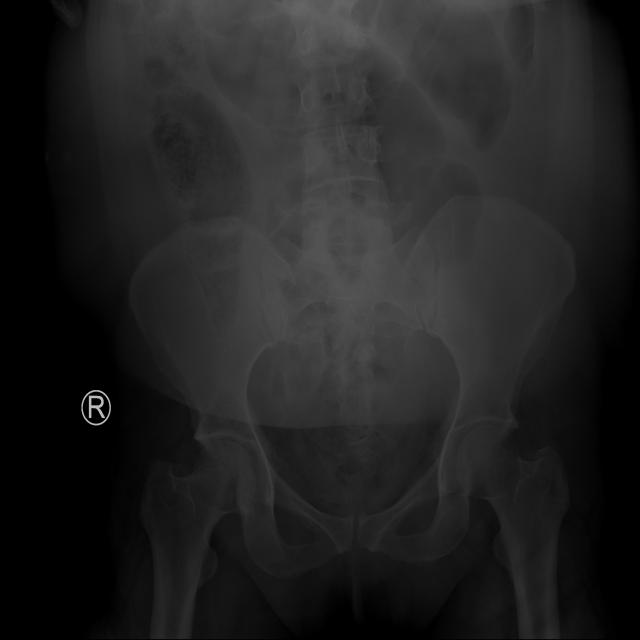normal-left: (456, 424, 570, 639)
normal-right: (141, 441, 256, 640)
